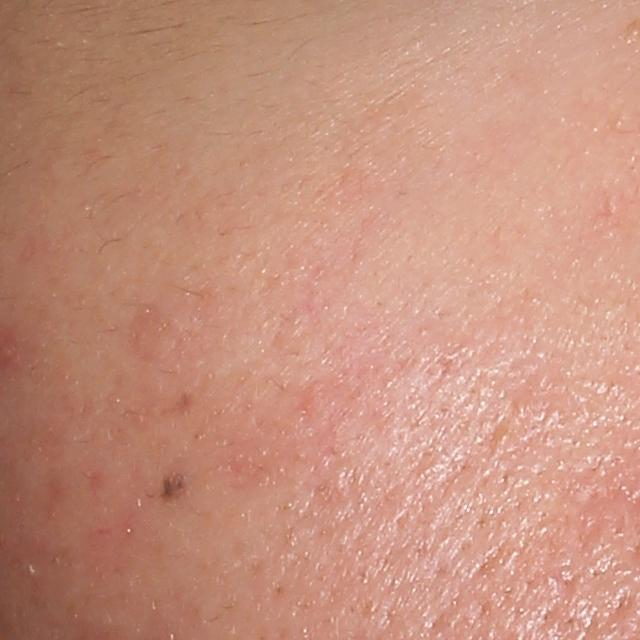nevus: (149, 472, 197, 506)
